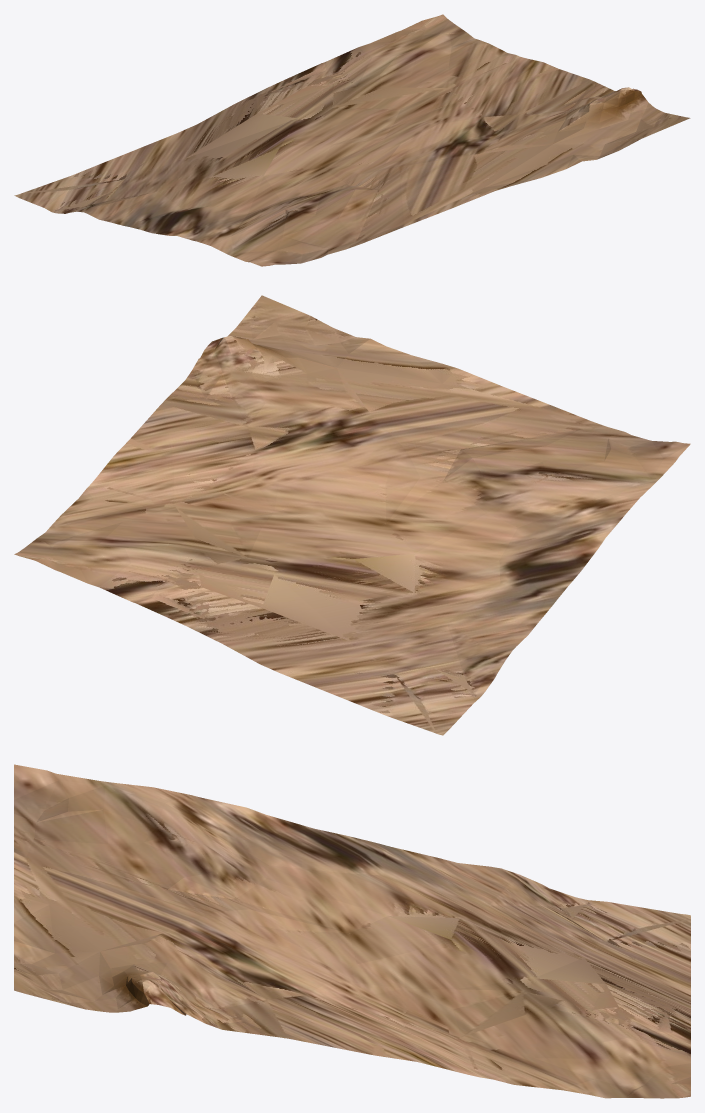
3 views of the same model, one above another, from view 1: azimuth 30°, elevation 25°; view 2: azimuth 150°, elevation 25°; view 3: azimuth 270°, elevation 25° (orthographic). The views are drawn at different scales.
Bounding box in the file's own units: 2.09 × 0.7181 × 2.09.
Materials: 3 (3 with a texture image).
